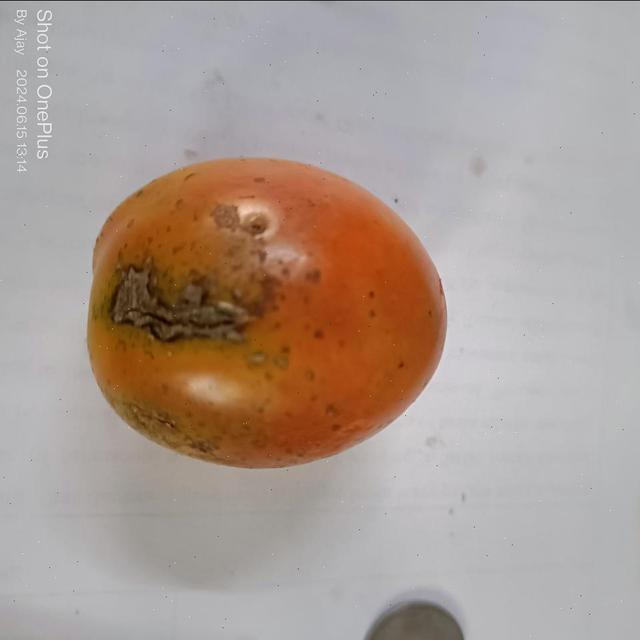Bacterial Spot Fruit: (64, 171, 186, 228)
